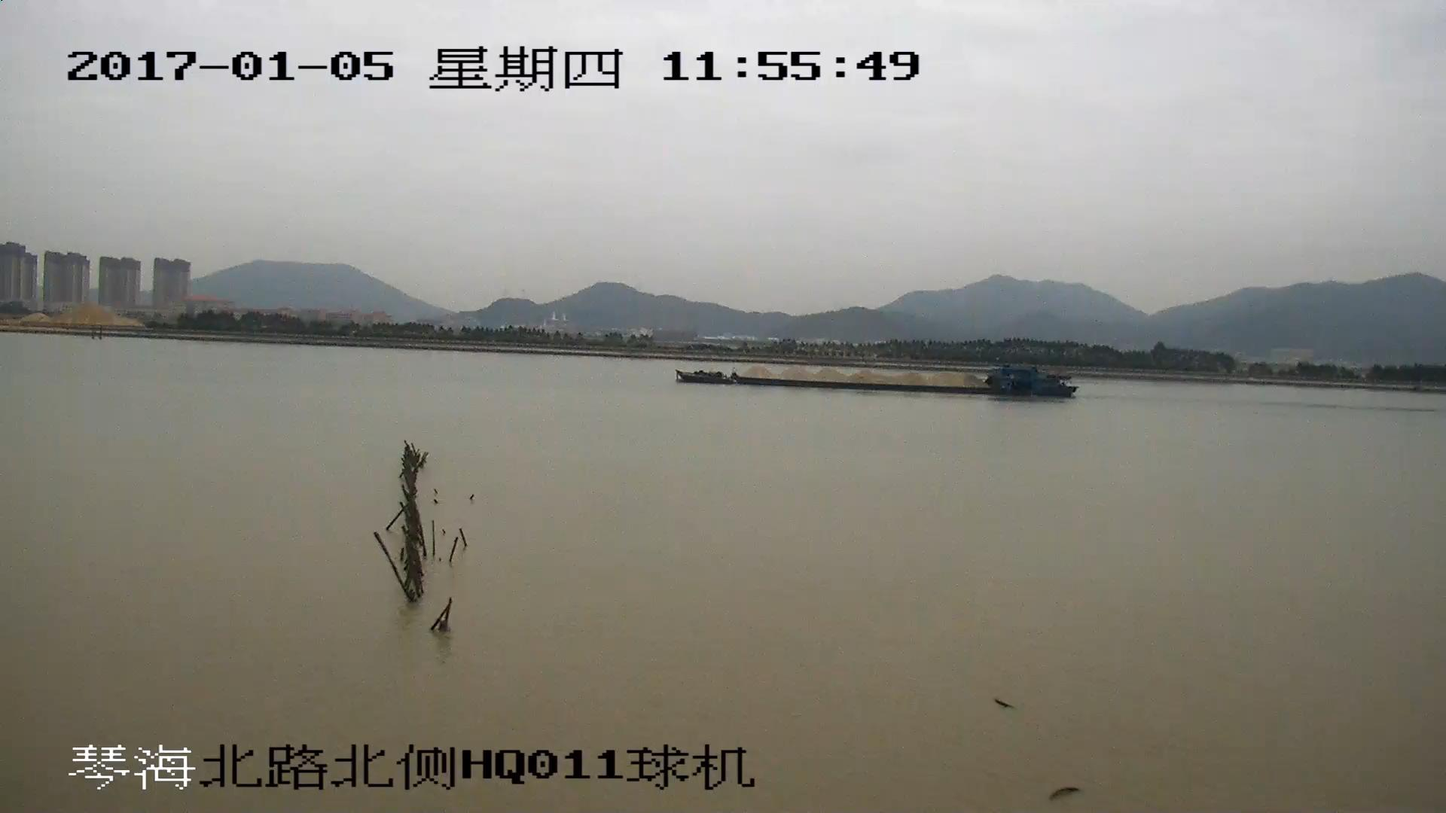ore carrier: (677, 364, 1076, 401)
